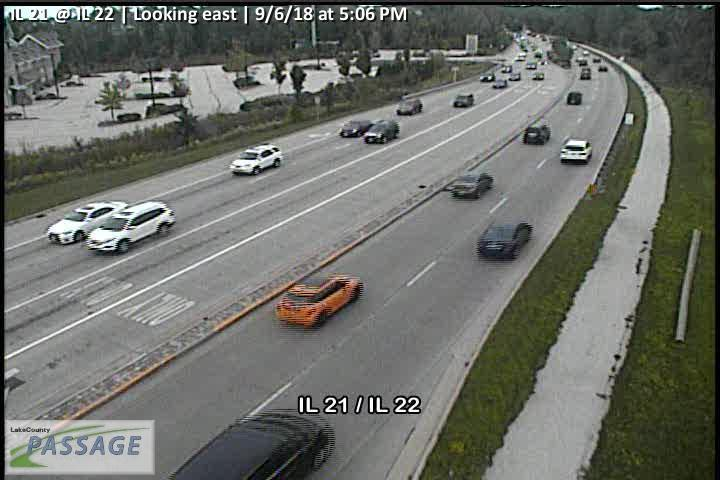SUV: (275, 271, 362, 329), (85, 200, 177, 253), (229, 144, 283, 175), (363, 119, 400, 144), (559, 139, 593, 164), (522, 123, 551, 145), (396, 97, 423, 115), (453, 92, 474, 107), (567, 91, 582, 106), (479, 70, 495, 82)
Sedan: (47, 200, 129, 245), (477, 216, 533, 260), (450, 170, 494, 199), (339, 118, 372, 137), (492, 79, 507, 88), (508, 72, 520, 81), (532, 71, 544, 80)
